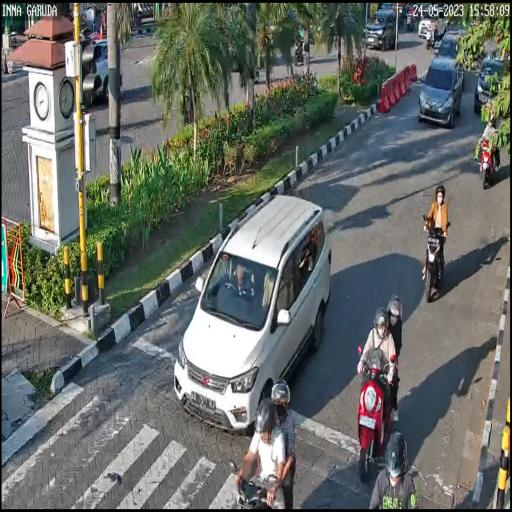mobil: (172, 190, 331, 426), (418, 58, 464, 130)
motor: (354, 346, 402, 482), (422, 213, 451, 304), (478, 135, 498, 191)
